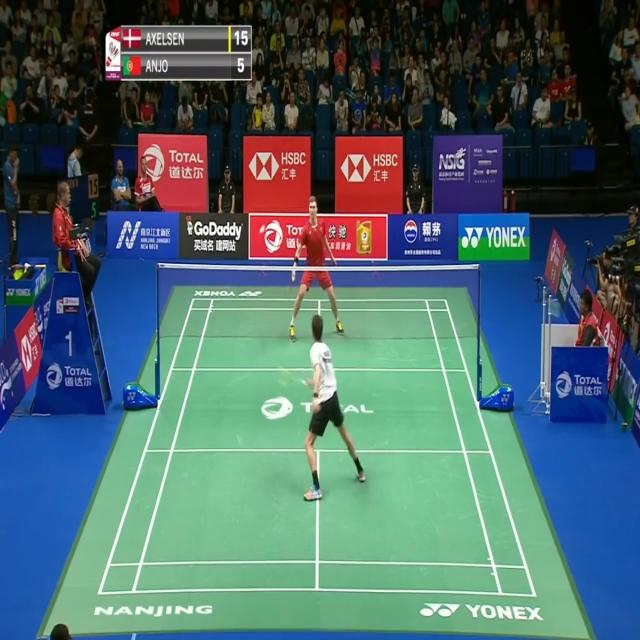Player1: (302, 314, 368, 516)
Player2: (285, 192, 345, 339)
